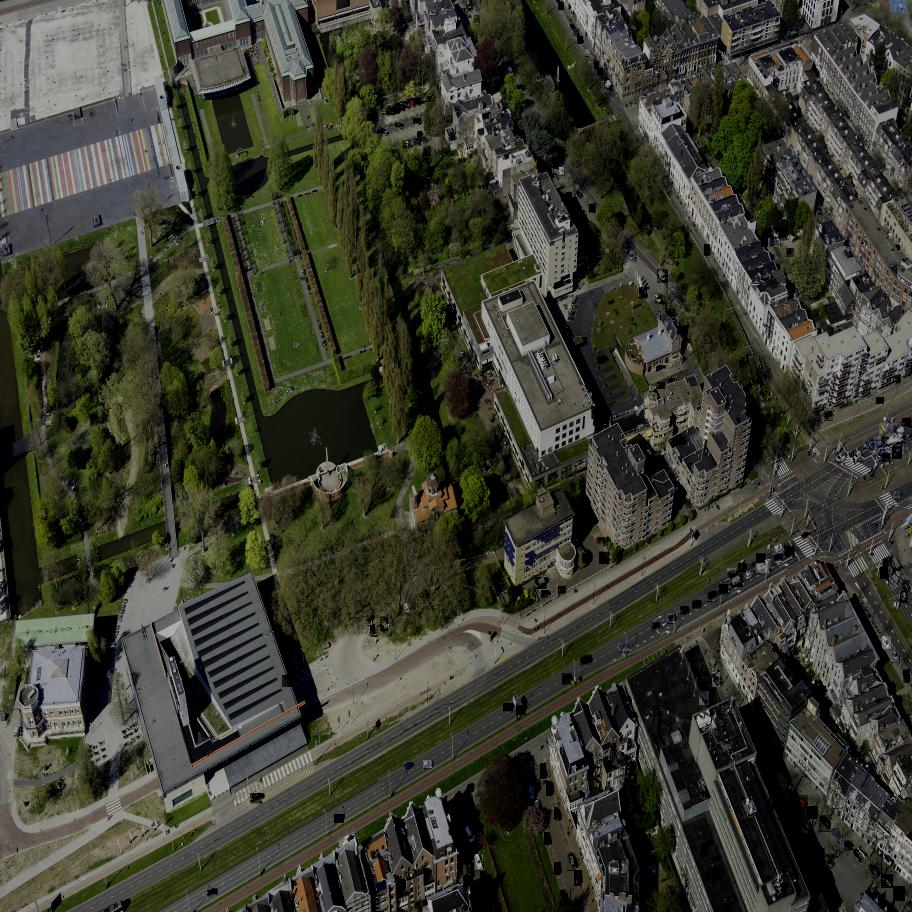large-vehicle: (747, 355, 771, 420), (873, 437, 906, 454), (878, 423, 900, 438)
small-vehicle: (850, 846, 869, 865), (887, 555, 904, 576), (867, 863, 884, 878), (818, 815, 833, 832), (755, 559, 773, 573), (891, 887, 907, 902), (829, 827, 845, 842), (809, 842, 826, 856), (560, 889, 573, 907), (879, 875, 894, 890), (466, 827, 478, 845), (698, 691, 712, 706), (756, 745, 771, 759), (795, 795, 810, 809), (729, 575, 745, 588), (893, 426, 907, 440), (785, 783, 799, 797), (824, 854, 837, 869), (834, 452, 849, 465), (805, 806, 820, 819), (567, 852, 577, 871), (656, 270, 669, 284), (706, 589, 720, 602), (888, 573, 902, 586), (778, 806, 790, 821), (768, 795, 780, 810), (599, 552, 612, 565), (788, 820, 801, 833), (561, 674, 575, 686), (461, 814, 472, 829), (534, 578, 549, 589), (579, 654, 594, 665), (281, 676, 296, 687), (249, 794, 264, 805), (664, 308, 676, 321), (891, 446, 903, 459), (727, 568, 739, 581), (712, 673, 723, 687), (773, 227, 784, 241), (13, 723, 24, 737), (842, 840, 856, 851), (881, 637, 892, 651), (463, 862, 468, 891), (475, 855, 484, 871), (775, 544, 787, 556), (853, 451, 865, 463), (402, 761, 415, 772), (380, 617, 390, 631), (480, 872, 488, 889), (621, 243, 632, 255), (592, 416, 604, 427), (768, 760, 779, 772), (862, 439, 874, 450), (801, 530, 812, 542), (375, 622, 385, 635), (797, 829, 810, 839), (574, 870, 582, 886), (685, 341, 694, 355), (582, 553, 593, 564), (676, 294, 687, 305), (869, 443, 880, 454), (719, 584, 730, 595), (883, 558, 891, 573), (603, 79, 613, 91), (639, 287, 649, 299), (902, 581, 912, 593), (900, 588, 908, 603), (666, 614, 678, 624), (891, 651, 901, 663), (370, 625, 379, 638), (366, 613, 375, 626), (333, 814, 346, 823), (650, 623, 663, 632), (469, 894, 476, 910), (785, 547, 796, 557), (546, 737, 556, 748), (745, 569, 755, 580), (667, 377, 678, 387), (516, 705, 527, 715), (206, 888, 218, 897), (880, 568, 889, 580), (502, 703, 514, 712), (629, 250, 638, 262), (617, 644, 630, 652), (738, 564, 748, 574), (756, 554, 767, 563), (716, 51, 727, 60), (903, 669, 910, 683), (403, 602, 411, 614), (592, 406, 599, 419), (554, 862, 561, 875), (902, 419, 912, 428), (423, 147, 432, 157), (571, 537, 580, 547), (540, 764, 546, 779), (704, 334, 713, 344), (598, 356, 608, 365), (656, 365, 666, 374), (668, 283, 677, 293), (886, 425, 896, 434), (655, 294, 664, 304), (881, 437, 890, 447), (824, 412, 834, 421), (661, 300, 669, 311), (881, 454, 892, 462), (544, 833, 551, 845), (704, 244, 711, 256), (786, 249, 795, 258), (366, 114, 376, 122), (392, 106, 402, 114), (596, 537, 606, 545), (368, 21, 376, 31), (387, 108, 397, 116), (588, 205, 597, 213), (403, 141, 412, 149), (541, 591, 550, 599), (574, 208, 582, 217), (529, 787, 535, 799), (770, 232, 778, 241), (774, 238, 782, 247), (379, 129, 389, 136), (466, 0, 473, 10), (412, 99, 422, 106), (566, 192, 573, 202), (535, 801, 540, 815), (414, 138, 422, 146), (585, 50, 593, 58), (596, 68, 604, 76), (573, 29, 581, 37), (677, 327, 685, 335), (413, 118, 422, 125), (423, 761, 432, 768), (402, 102, 411, 109), (553, 159, 560, 168), (558, 587, 567, 594), (655, 312, 662, 321), (761, 239, 768, 248), (692, 601, 701, 608), (876, 397, 885, 404), (417, 97, 425, 104), (589, 56, 596, 64), (559, 168, 566, 176), (546, 782, 550, 796), (774, 556, 782, 563), (681, 607, 689, 614), (474, 15, 480, 24), (397, 105, 406, 111), (570, 23, 577, 30), (395, 123, 403, 129), (558, 2, 564, 10), (420, 137, 428, 143), (578, 36, 584, 44), (425, 96, 432, 102), (594, 62, 600, 69), (658, 382, 665, 388), (817, 207, 822, 215), (417, 132, 422, 140), (555, 808, 558, 820), (894, 492, 900, 498), (562, 196, 567, 202), (409, 101, 414, 106), (601, 76, 605, 82), (650, 387, 656, 391), (578, 190, 581, 197), (383, 109, 387, 114)
